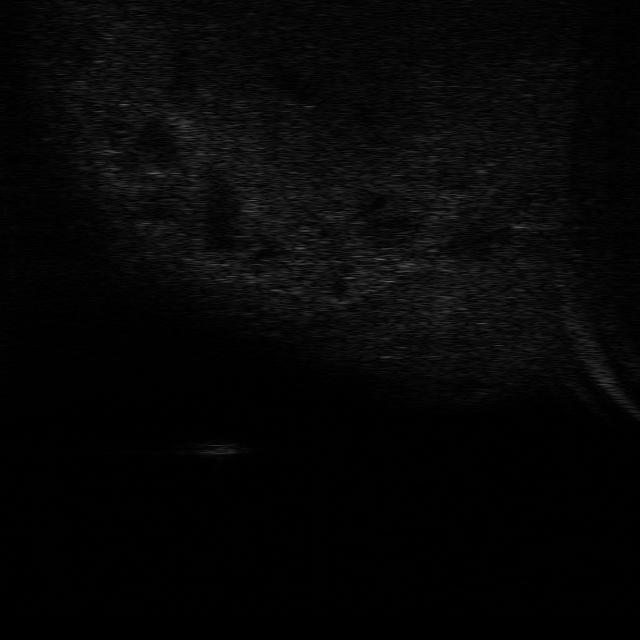cube: (192, 436, 238, 458)
